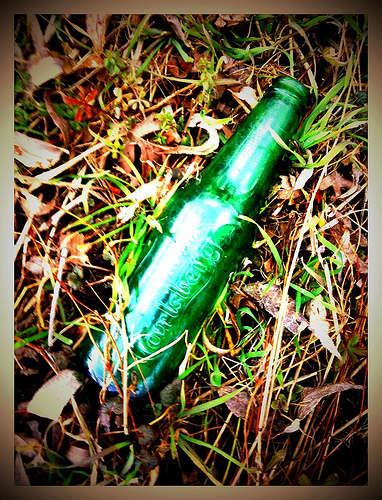litter: (85, 77, 314, 405)
